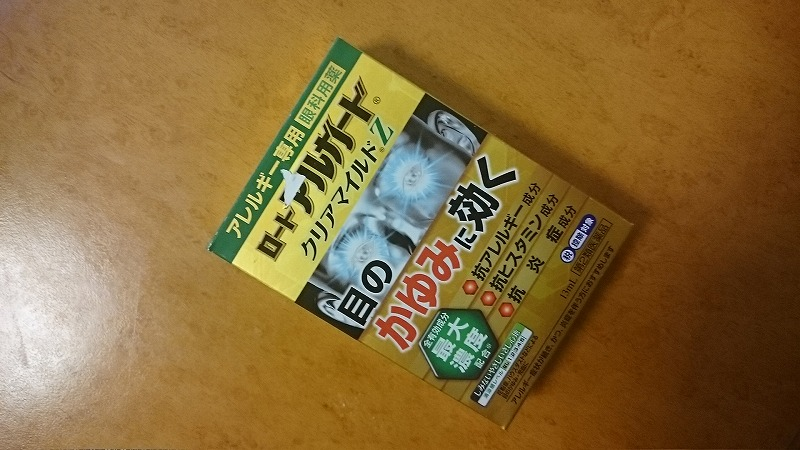C: (197, 27, 643, 441)
